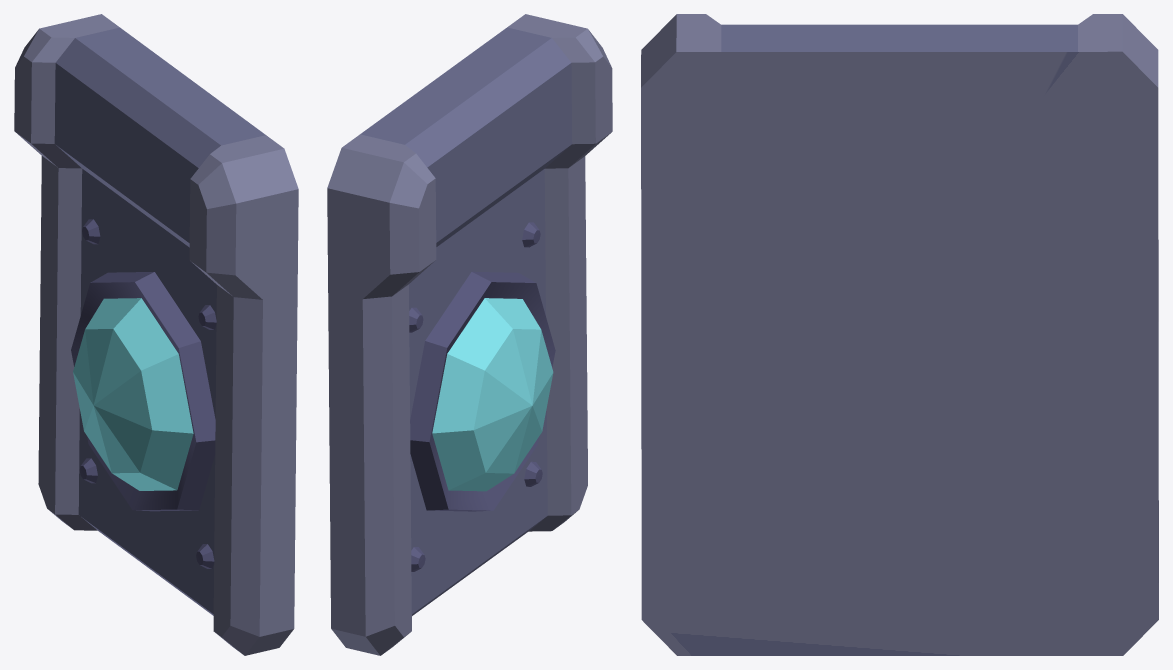
The model's file is button2.fbx.
The picture shows the model from 3 angles, left to right: view 1: azimuth 30°, elevation 25°; view 2: azimuth 150°, elevation 25°; view 3: azimuth 270°, elevation 25°; orthographic projection. The views are drawn at different scales.
Visible parts, largest first — view 1: polySurface136; view 2: polySurface136; view 3: polySurface136.
Boxes of the visible parts, x1=… form: polySurface136: x1=14, y1=14, x2=298, y2=655; polySurface136: x1=327, y1=14, x2=612, y2=655; polySurface136: x1=641, y1=14, x2=1158, y2=655.
Size of the model in its own units: 0.0421 by 0.2019 by 0.1558.
